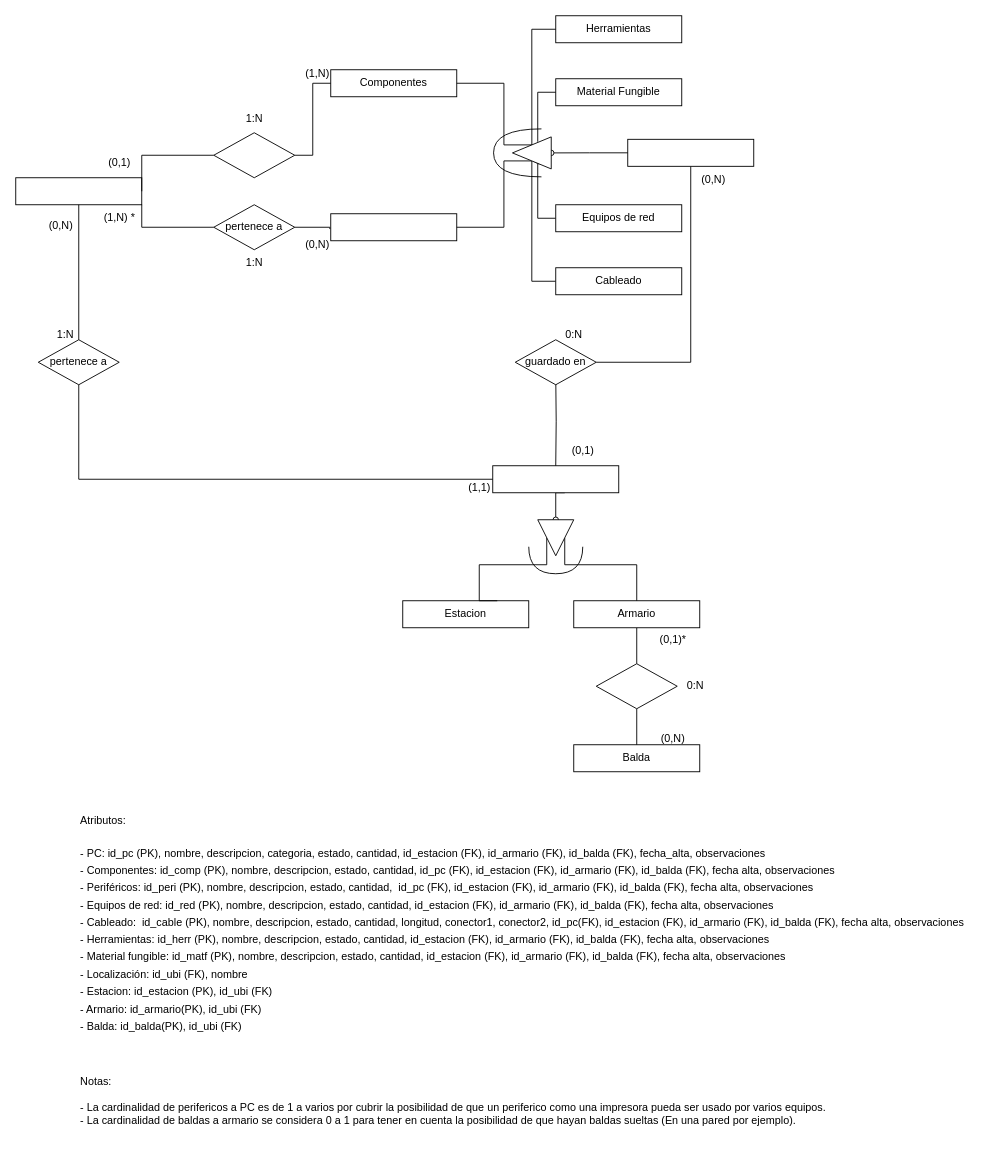
This 1004x1175 diagram has some shape labels left out. The box of each missing label's shape, as (x1, y1, x2, y2) in pixels:
compuesto por: (213, 132, 295, 178)
Localizacion: (492, 465, 619, 493)
Material/Inventario: (627, 138, 754, 166)
PC: (15, 177, 142, 205)
Perifericos: (330, 213, 457, 241)
tiene: (595, 663, 677, 709)
